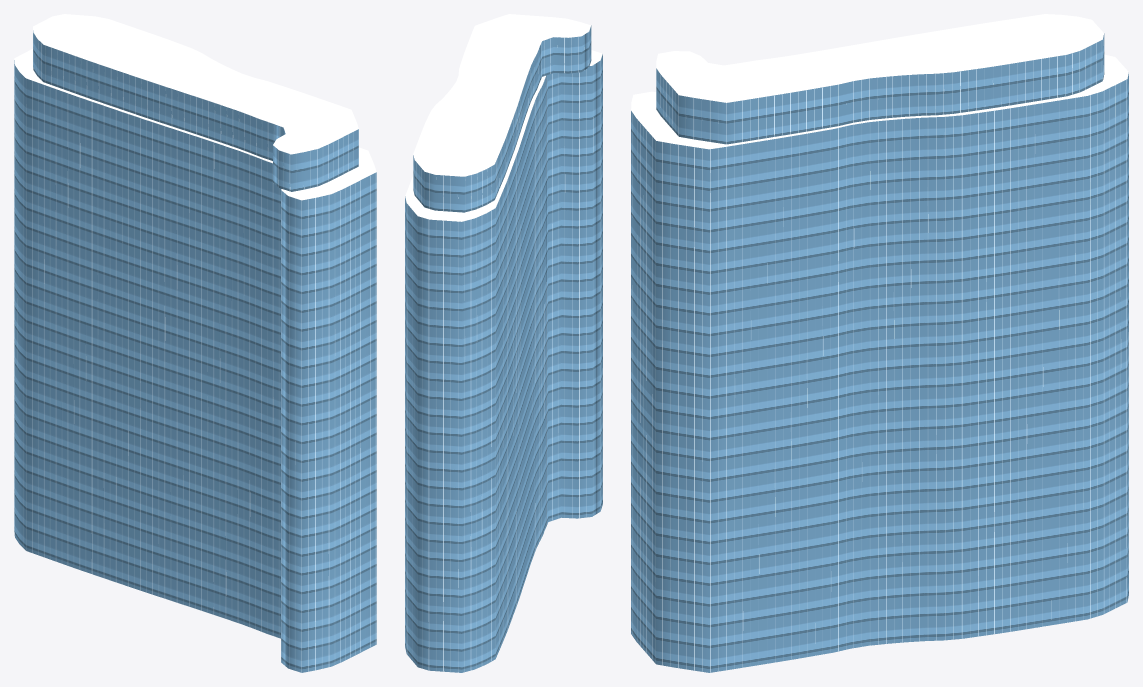
File: landmark-hilton-baku.glb
3 views of the same model, side by side, from view 1: azimuth 30°, elevation 25°; view 2: azimuth 150°, elevation 25°; view 3: azimuth 270°, elevation 25° (orthographic). The views are drawn at different scales.
Visible parts, largest first — view 1: hilton-baku; view 2: hilton-baku; view 3: hilton-baku.
Boxes of the visible parts, x1,y1,x2,y2 form: hilton-baku: [14, 14, 376, 672]; hilton-baku: [405, 14, 602, 672]; hilton-baku: [631, 14, 1128, 672].
Size of the model in its own units: 40.77 by 109 by 86.82.
Materials: 2 (1 with a texture image).
